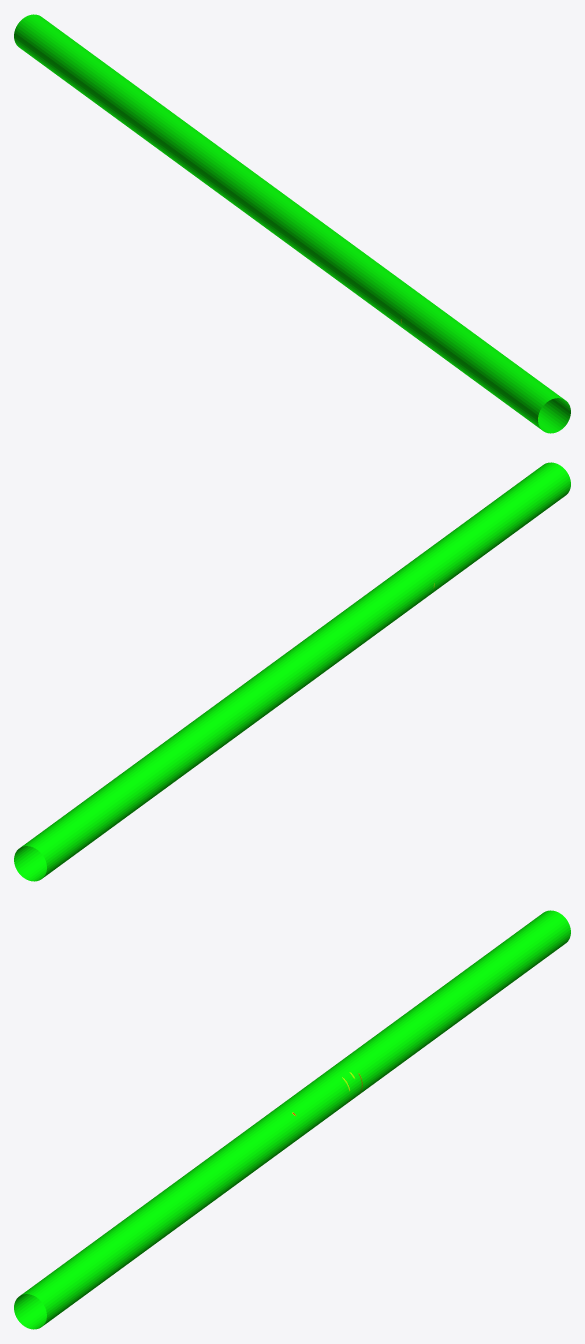
3 views of the same model, one above another, from view 1: azimuth 30°, elevation 25°; view 2: azimuth 150°, elevation 25°; view 3: azimuth 330°, elevation 25° (orthographic).
Bounding box in the file's own units: 2 × 2 × 55.
Materials: 1 (1 with a texture image).
